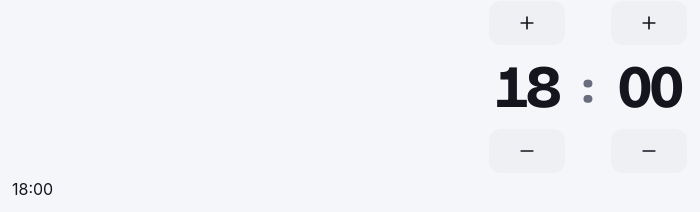
Scenario: ClockPicker, as a person uses it › types one digit and keeps it, instead of turning it into a padded number mid-typing
Click the field named "Hora".
click(526, 87)  # box [480, 51, 572, 123]
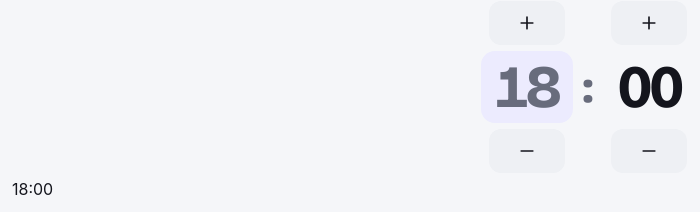
Type keys "7"
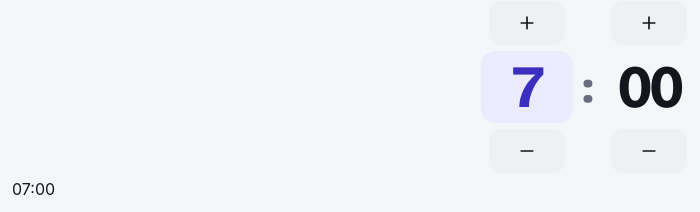
Check: the field named "Hora" holds "7", box [480, 51, 572, 123]
Press Tab
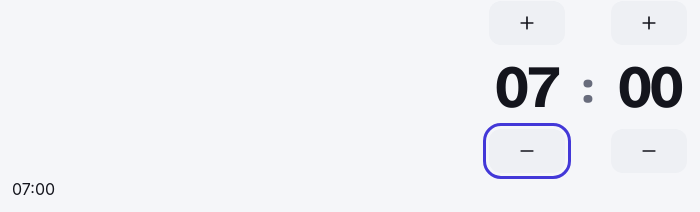
Check: the field named "Hora" holds "07", box [480, 51, 572, 123]
